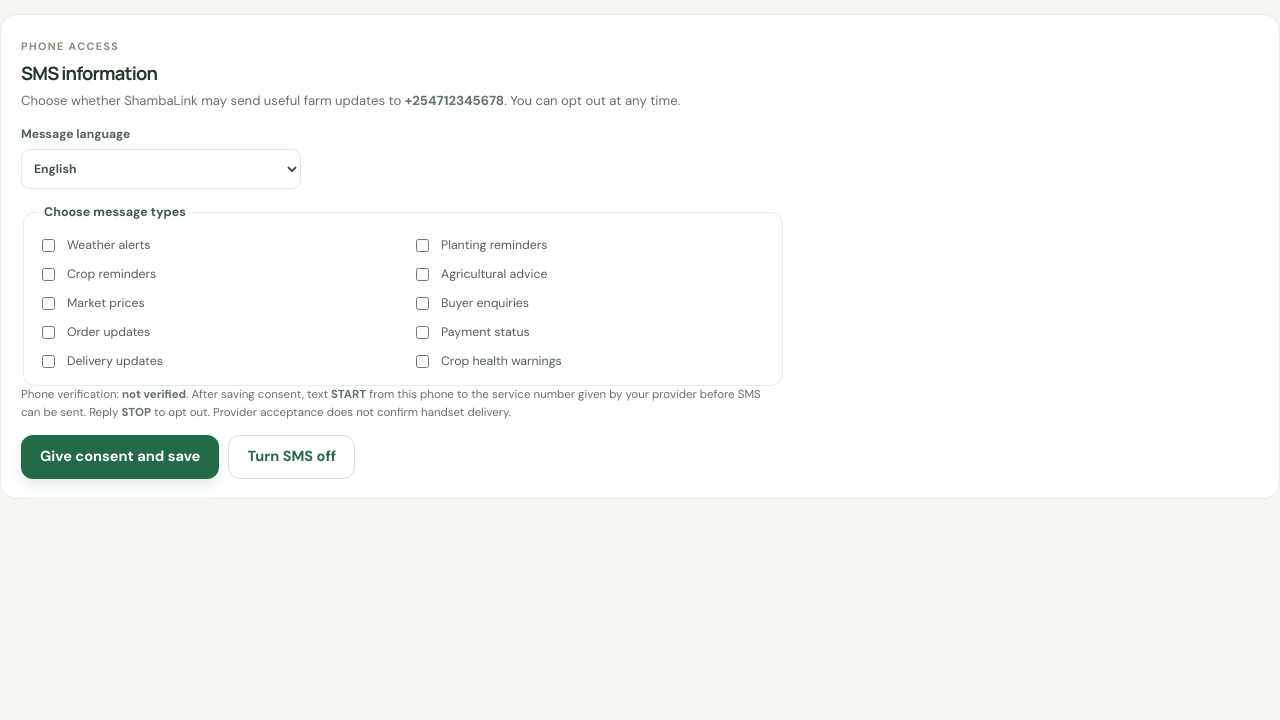
Test: SMS preferences › shows API errors and provides an opt-out control
Expected: the heading "SMS information" is shown, [21,60,157,86]
Click the button "Turn SMS off": (292, 457) [228,435,355,479]
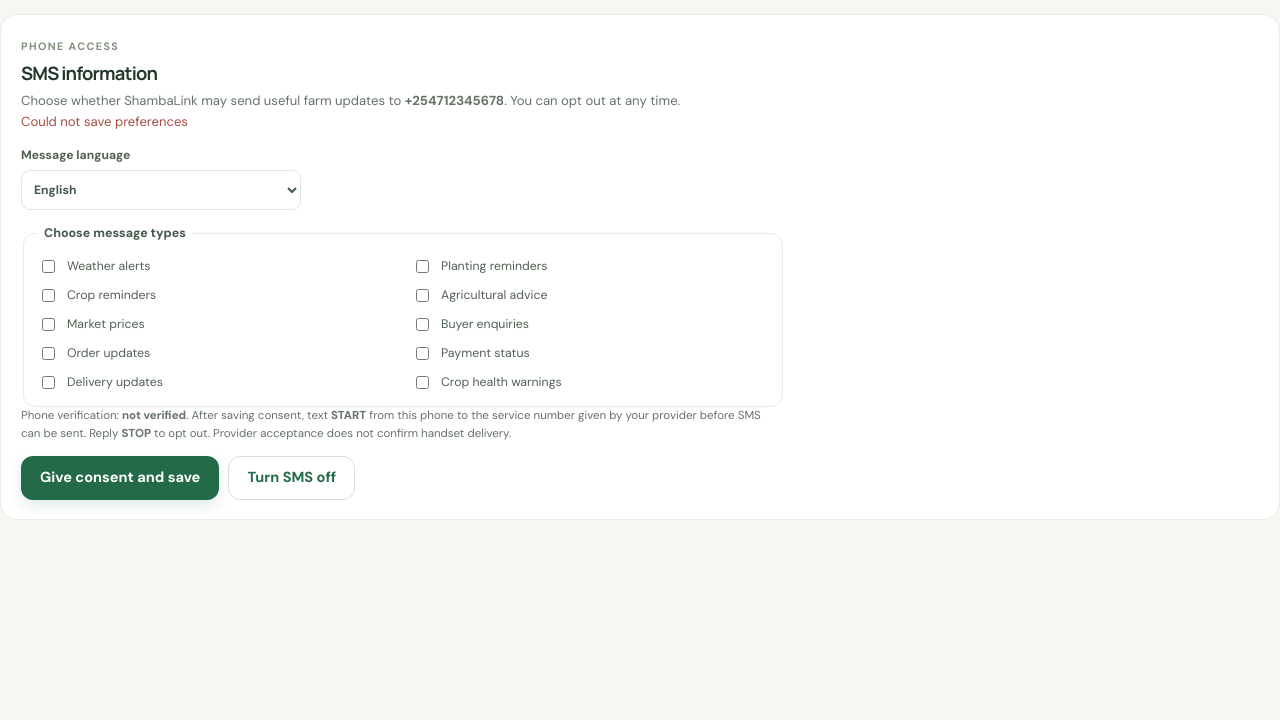
Expected: the message reads "Could not save preferences", [21,113,188,130]
